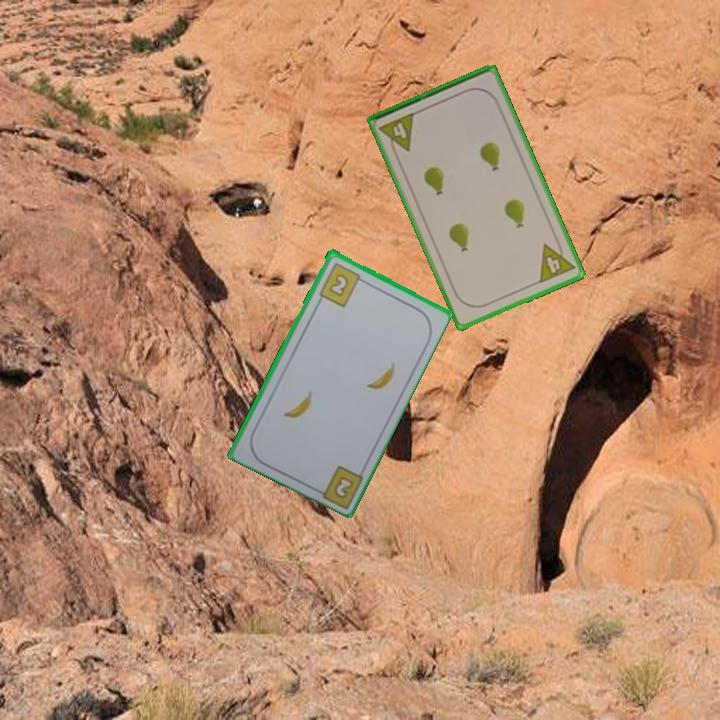2b: (315, 259, 368, 309), (332, 475, 354, 499)
4p: (535, 235, 578, 286), (376, 109, 418, 158)
